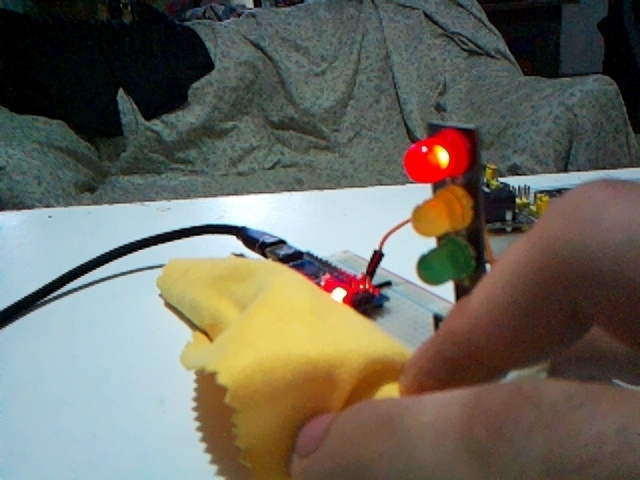traffic_light_red: (404, 124, 487, 293)
